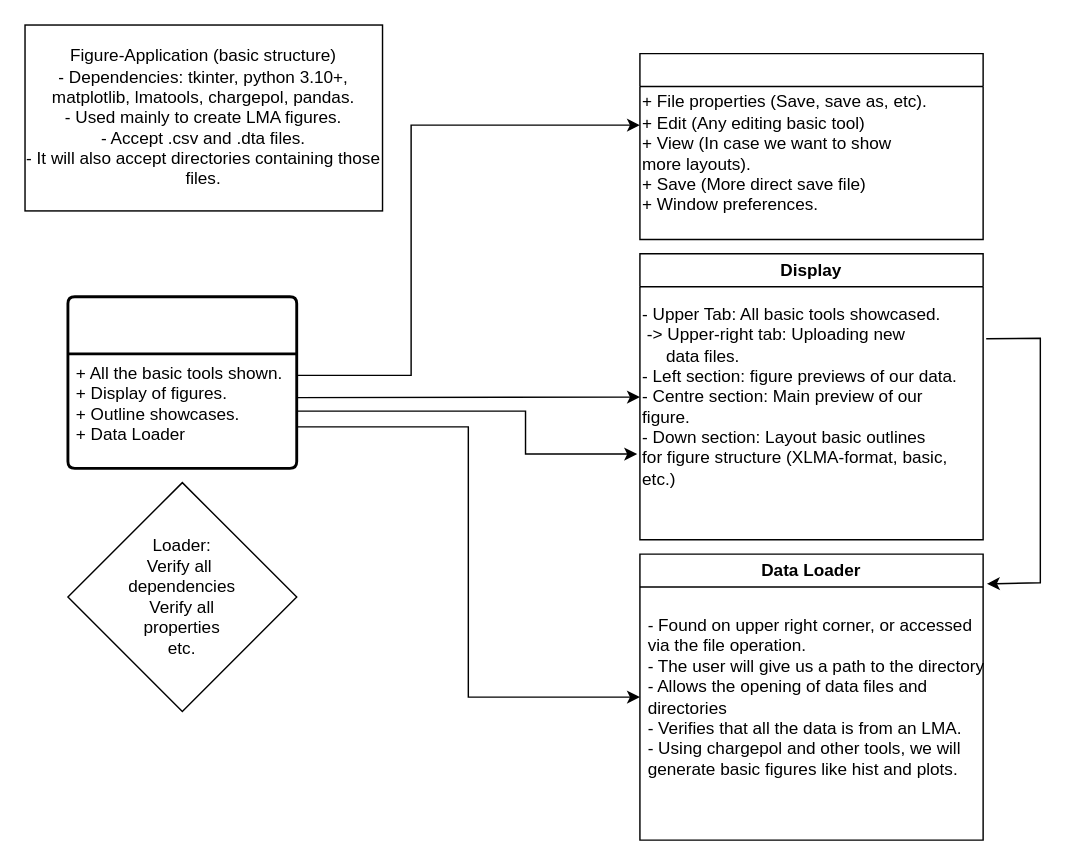
Some shapes in this 1077 by 865 pixel diagram are drawn without their labels. Here are the shapes that lost their labels. From the top down, the box of each, then its label:
(638, 52, 983, 240): Basic tools
(66, 295, 297, 469): Main Window
